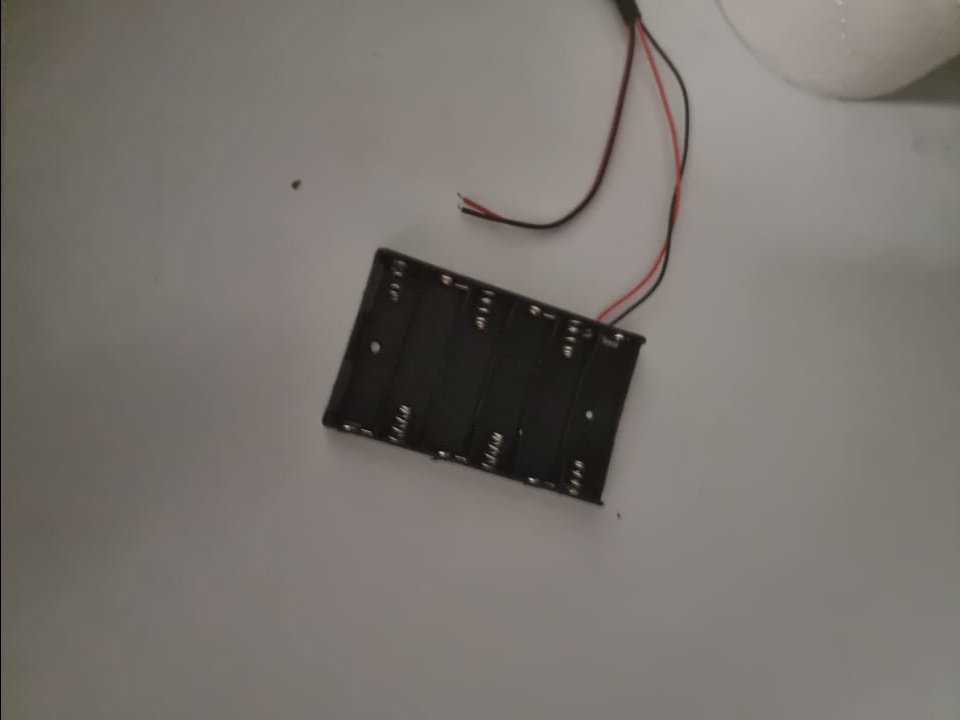BATTERY BOX: (312, 249, 650, 514)
